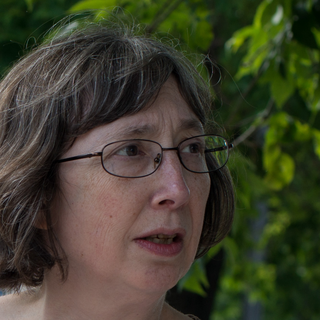eye: (113, 140, 151, 164), (178, 139, 207, 157)
